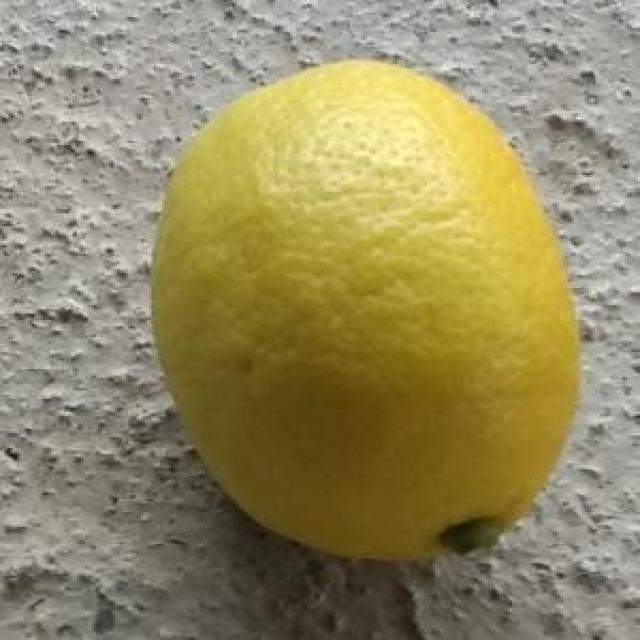lemon: (144, 55, 584, 564)
